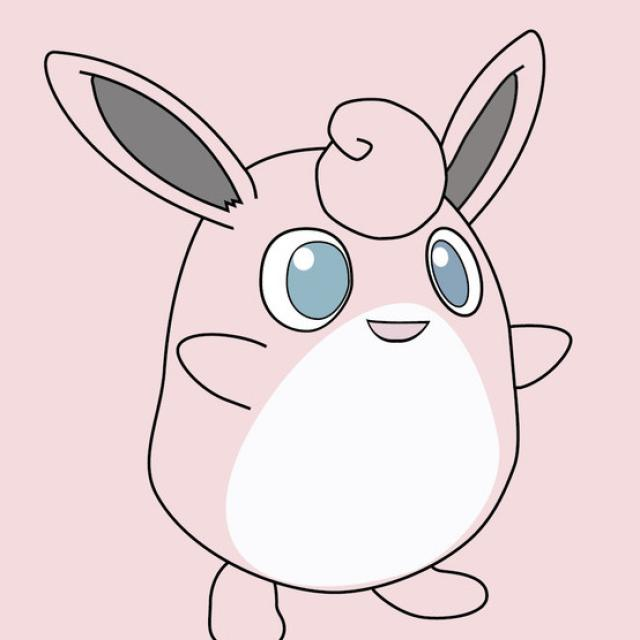Wigglytuff: (139, 93, 525, 612)
